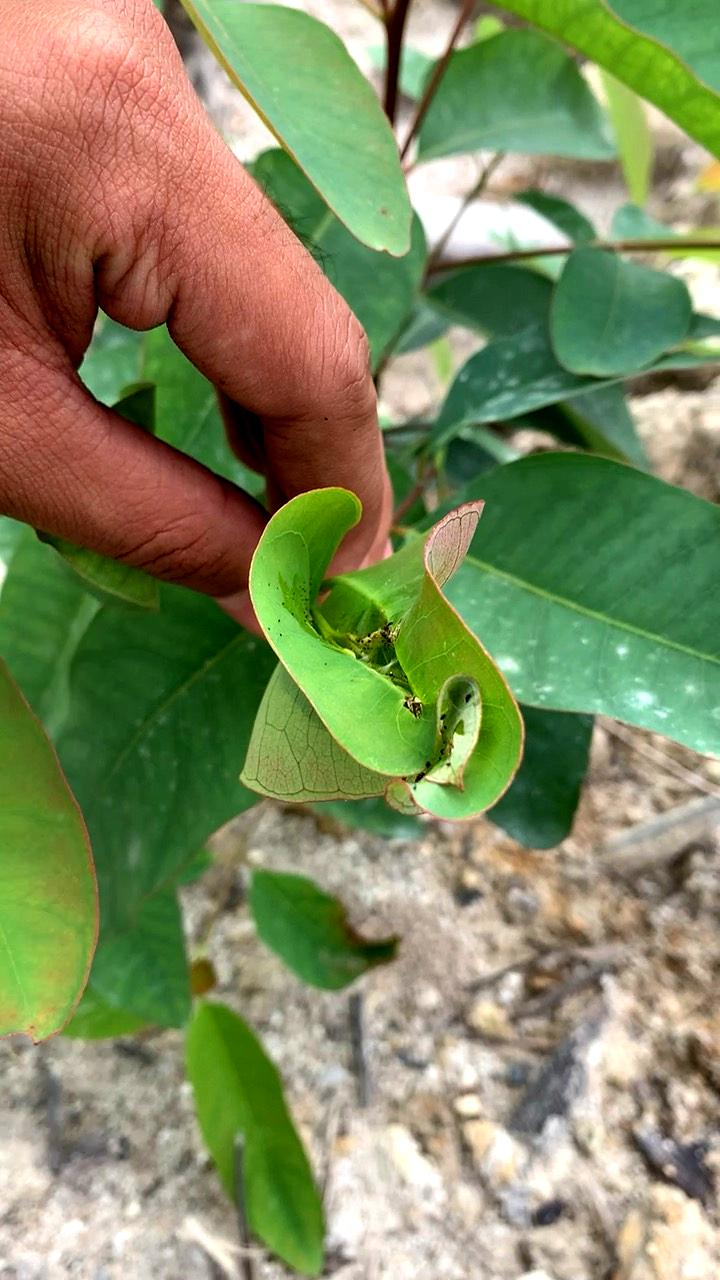Leaf Roller - Leaf: (201, 468, 538, 878)
